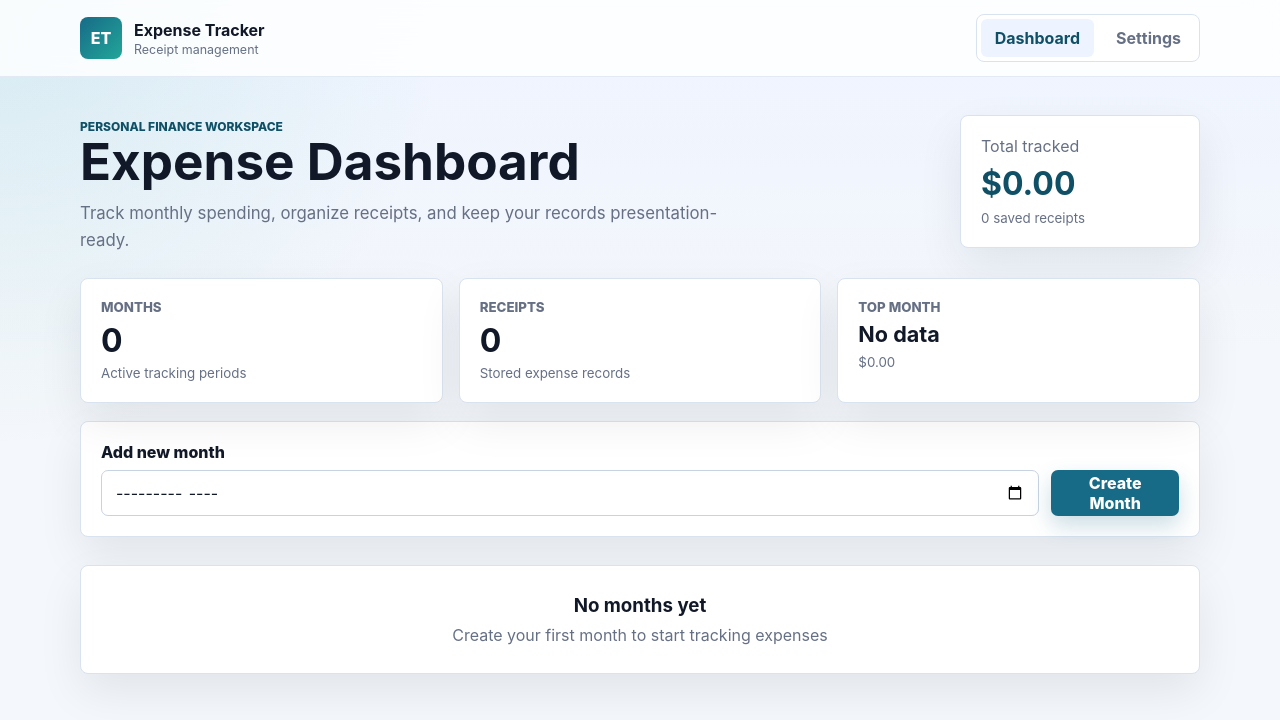
Scenario: Settings link navigates to Settings page
Check: the heading "Expense Dashboard" is shown, box [80, 130, 580, 192]
Step 1. Click the link "Settings" → (1149, 38), box [1116, 28, 1181, 48]
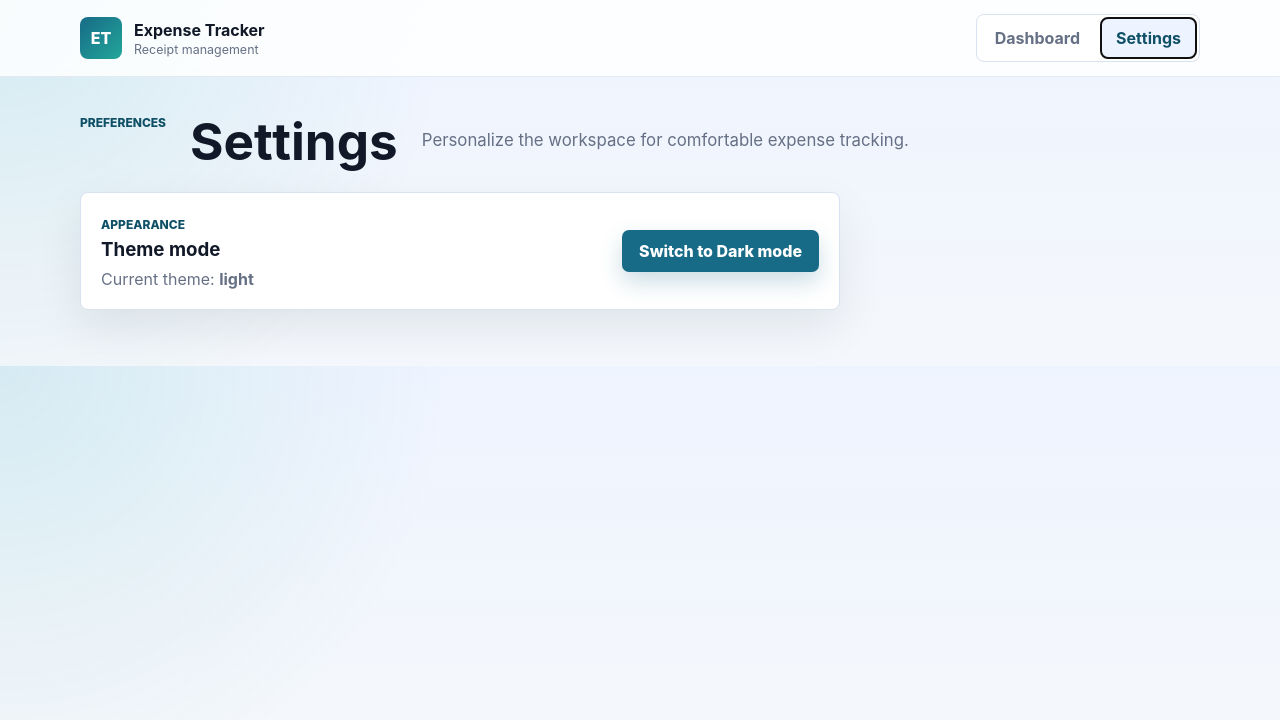
Check: the heading "Settings" is shown, box [190, 115, 398, 168]
Check: the text "Current theme: light" is shown, box [101, 269, 254, 289]
